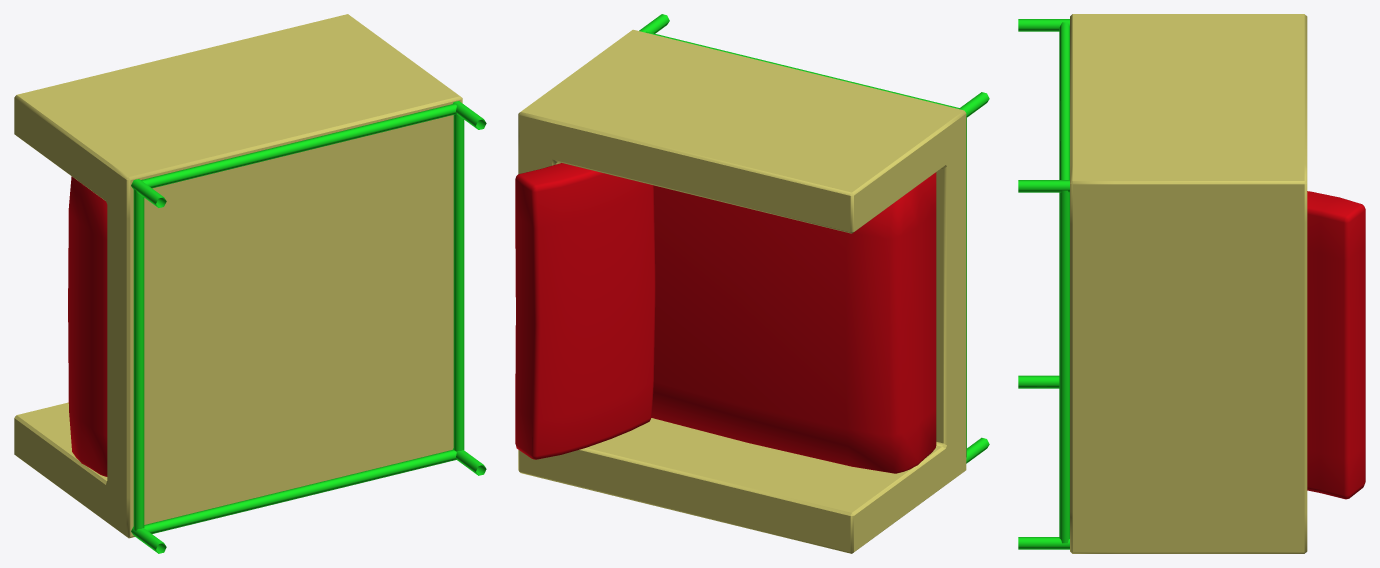
The model's file is chair_3.FBX.
The picture shows the model from 3 angles, left to right: view 1: azimuth 30°, elevation 25°; view 2: azimuth 150°, elevation 25°; view 3: azimuth 270°, elevation 25°; orthographic projection. The views are drawn at different scales.
Visible parts, largest first — view 1: metal.001; view 2: metal.001; view 3: metal.001.
Part boxes in pixels (x1,y1,x2,y2): metal.001: (14,14,486,553); metal.001: (515,14,989,553); metal.001: (1018,14,1365,553).
Size of the model in its own units: 74.94 by 77.06 by 65.04.
